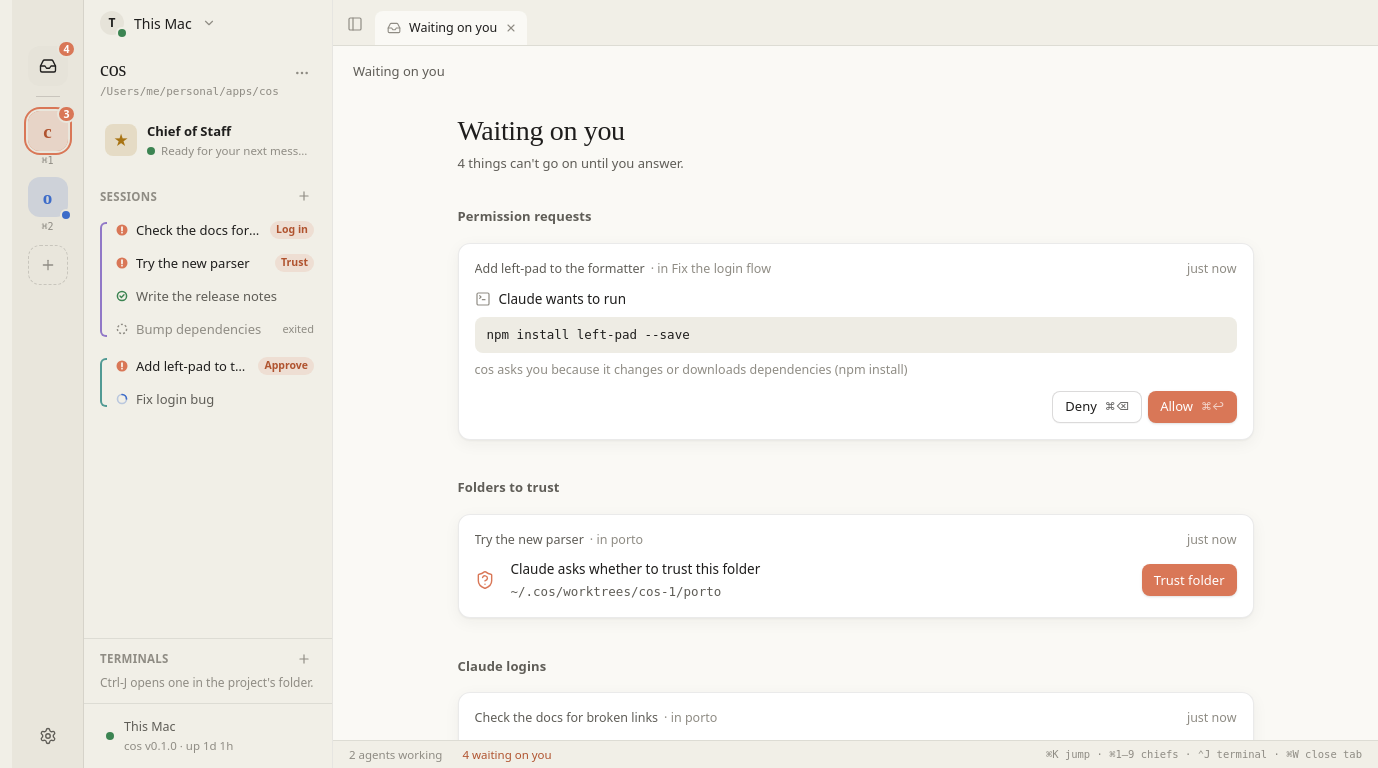
Test: Waiting on you › allows a request, which then leaves the list
The width and height of the screenshot is (1378, 768).
Click the button "Allow ⌘↩" at (1192, 407), box x1=1148 y1=391 x2=1236 y2=423
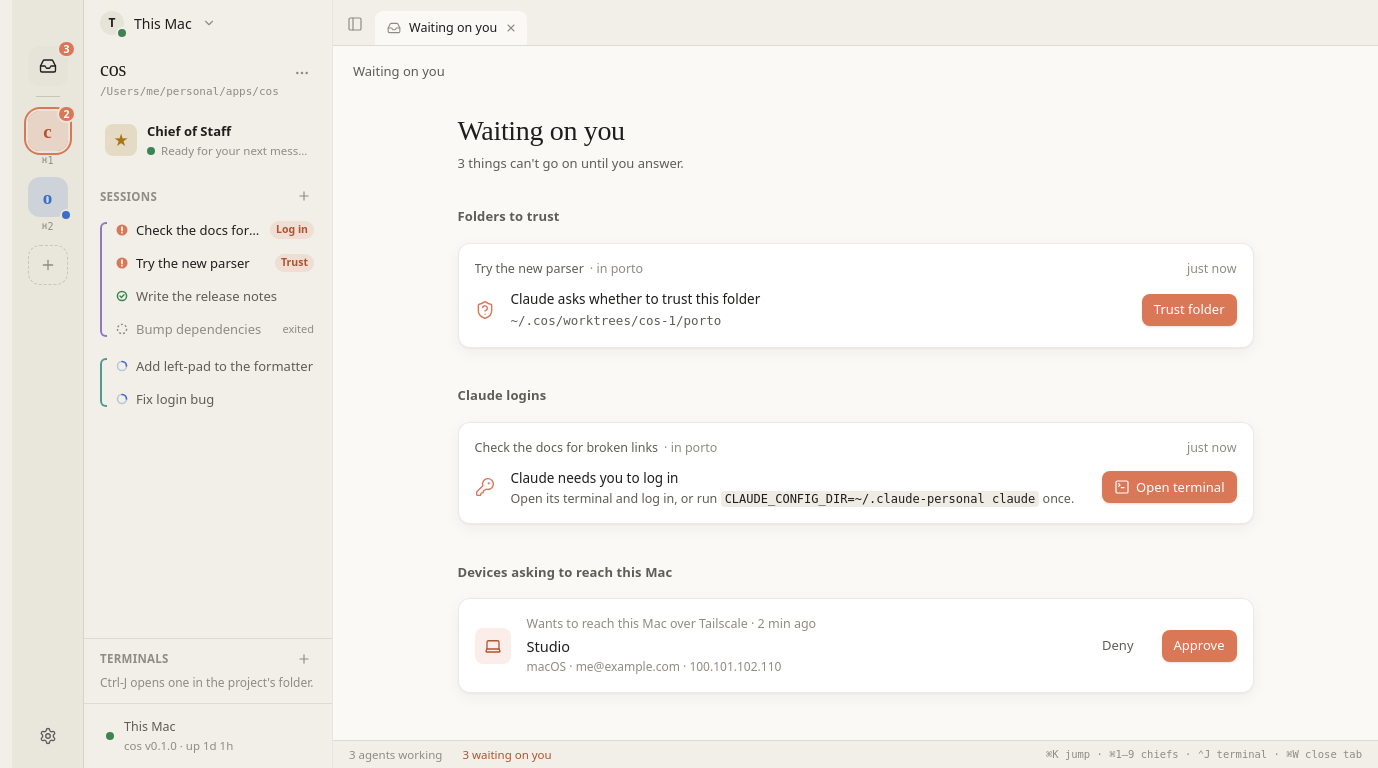
Check: the text "npm install left-pad --save" is gone
